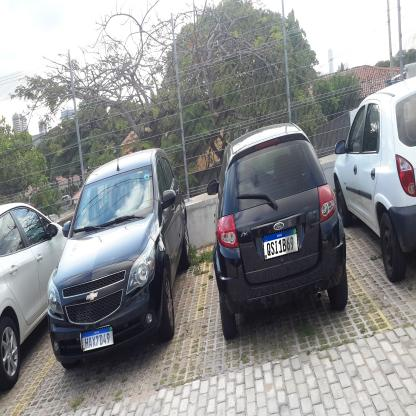PlacaM: (262, 226, 299, 261), (81, 325, 114, 352)
